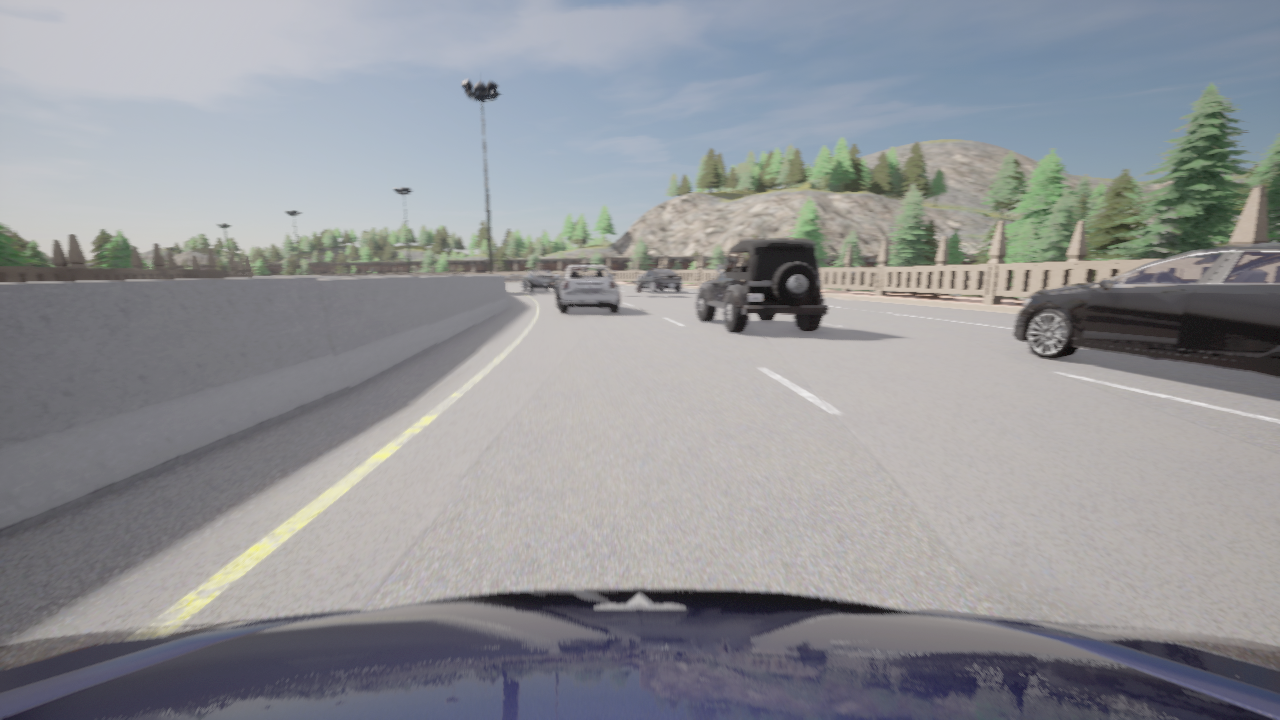cyclist: (0, 588, 1279, 719), (1014, 242, 1279, 376), (697, 238, 827, 332), (555, 265, 620, 313), (636, 268, 682, 292), (522, 269, 557, 291)
